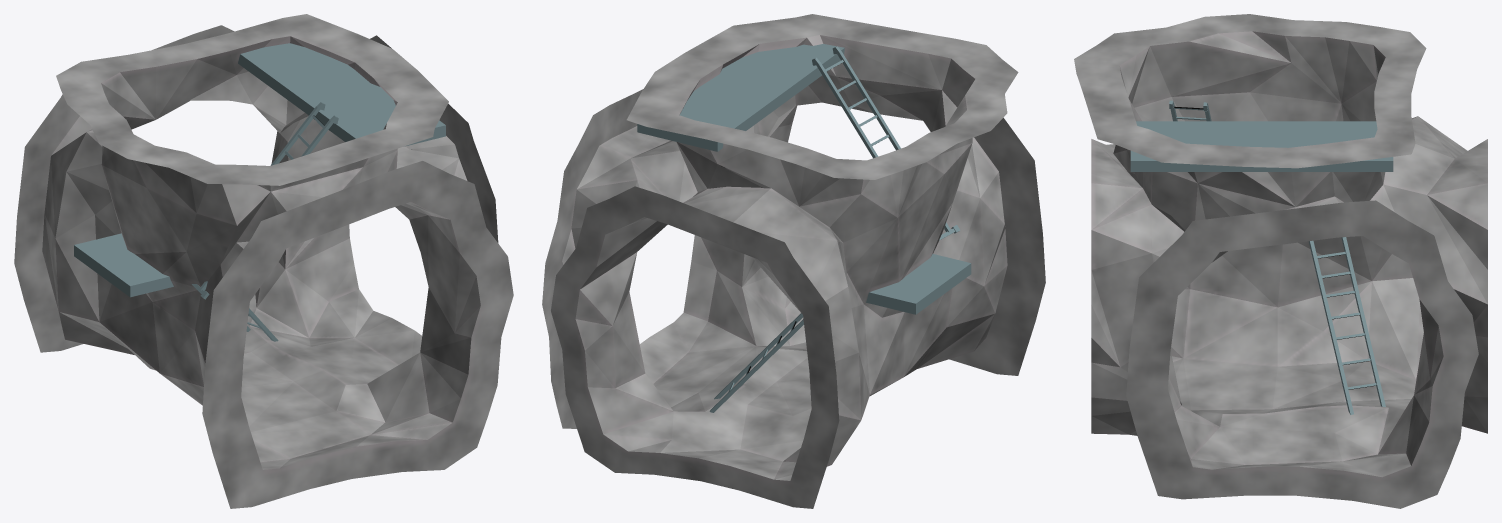
The model's file is 4UpConnector.gltf.
The picture shows the model from 3 angles, left to right: view 1: azimuth 30°, elevation 25°; view 2: azimuth 150°, elevation 25°; view 3: azimuth 270°, elevation 25°; orthographic projection.
Visible parts, largest first — view 1: 4UpConnector; view 2: 4UpConnector; view 3: 4UpConnector.
Boxes of the visible parts, left/top/right/bottom form: 4UpConnector: left=14, top=14, right=513, bottom=508; 4UpConnector: left=542, top=14, right=1045, bottom=508; 4UpConnector: left=1074, top=14, right=1487, bottom=508.
Size of the model in its own units: 4.94 by 4.74 by 5.22.
Materials: 3 (3 with a texture image).
